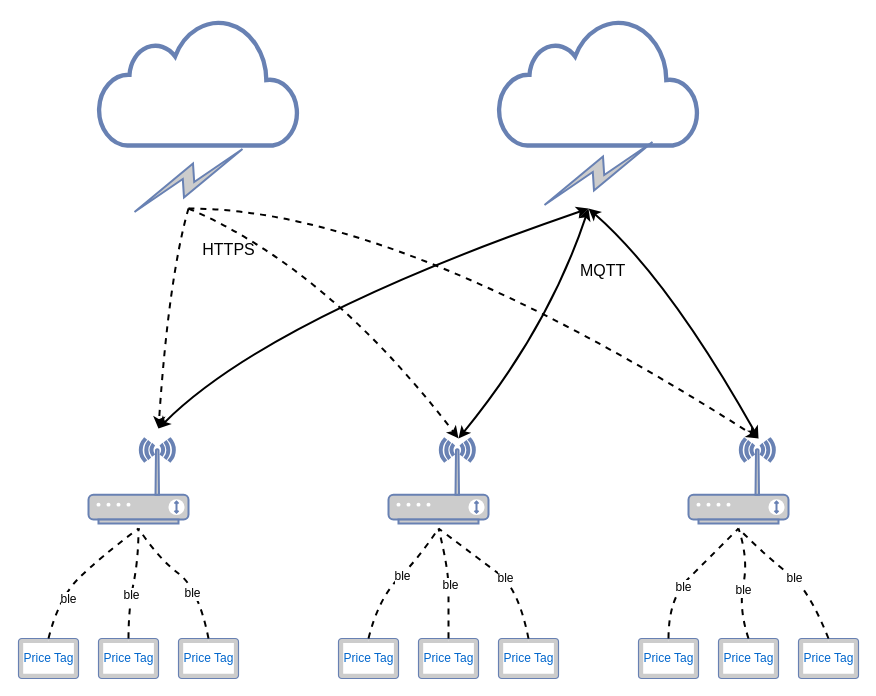
Image size: 876x696. Some labels were removed from this diagram. The shapes that lost their labels are listed below. From the top down, each one's box as (x1, y1, x2, y2) in pixels, then its label:
(97, 17, 299, 146): OSS Server
(497, 17, 699, 146): MQTT Server
